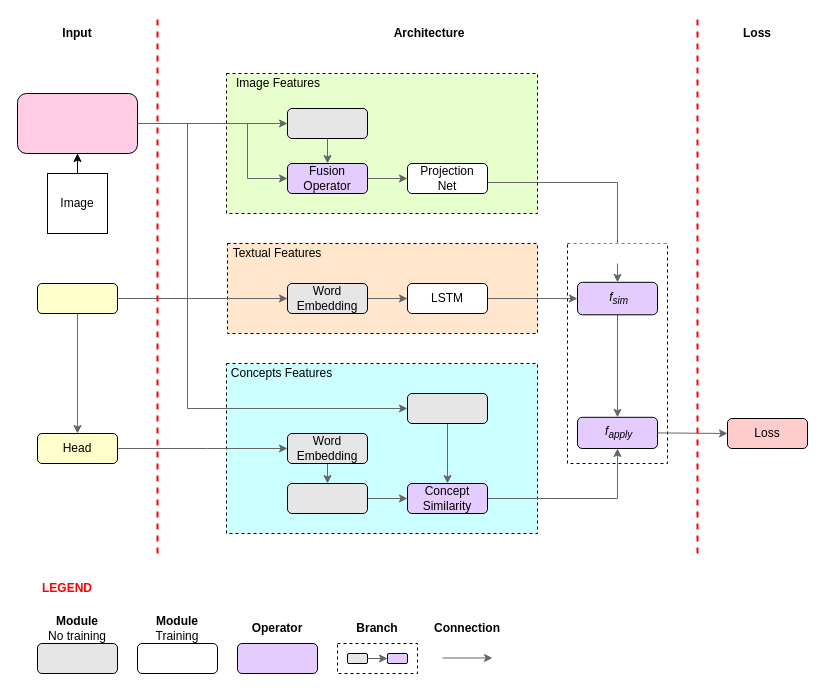
This 825x691 diagram has some shape labels left out. Here are the shapes that lost their labels. From the top down, the centre of each, then its label:
At [77,123]: "Object Detector".
At [327,123]: "Spatial Features".
At [617,253]: "Prediction Module".
At [77,298]: "Query".
At [447,408]: "Bounding Box Class Emb.".
At [327,498]: "Concept Embedding".
